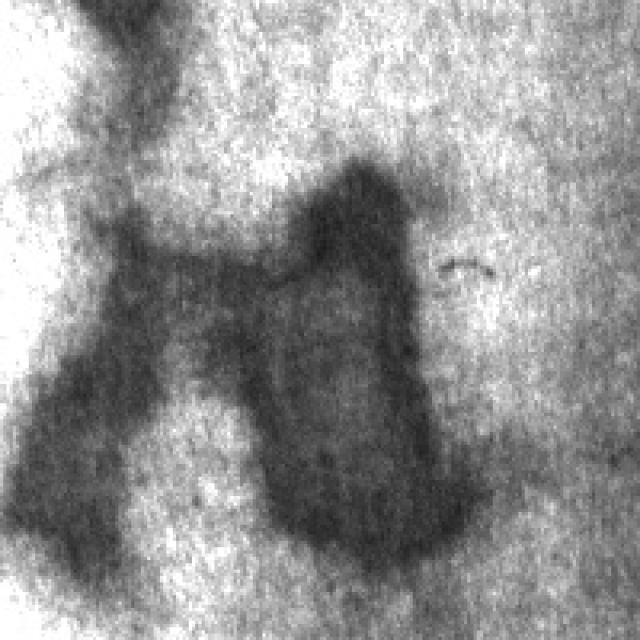patches: (212, 144, 486, 557), (7, 189, 198, 579), (61, 0, 192, 150)
